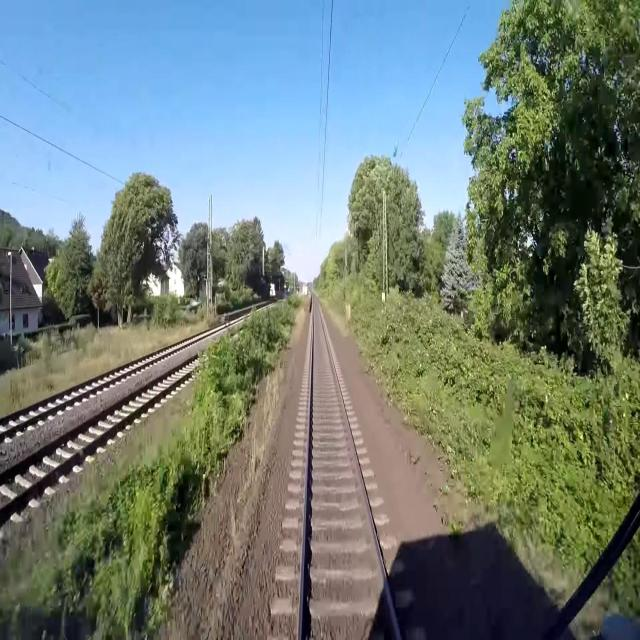rail-track: (302, 296, 396, 639)
